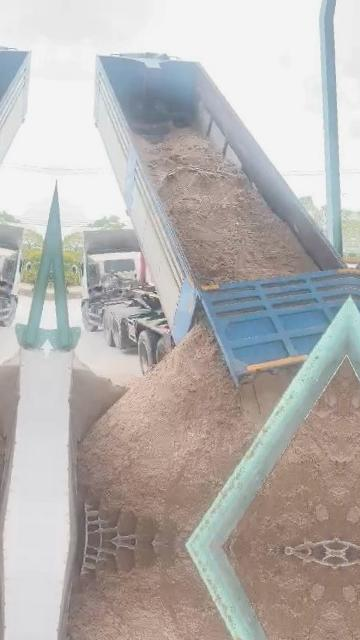sand: (79, 327, 292, 544), (137, 128, 317, 284), (232, 360, 347, 548)
